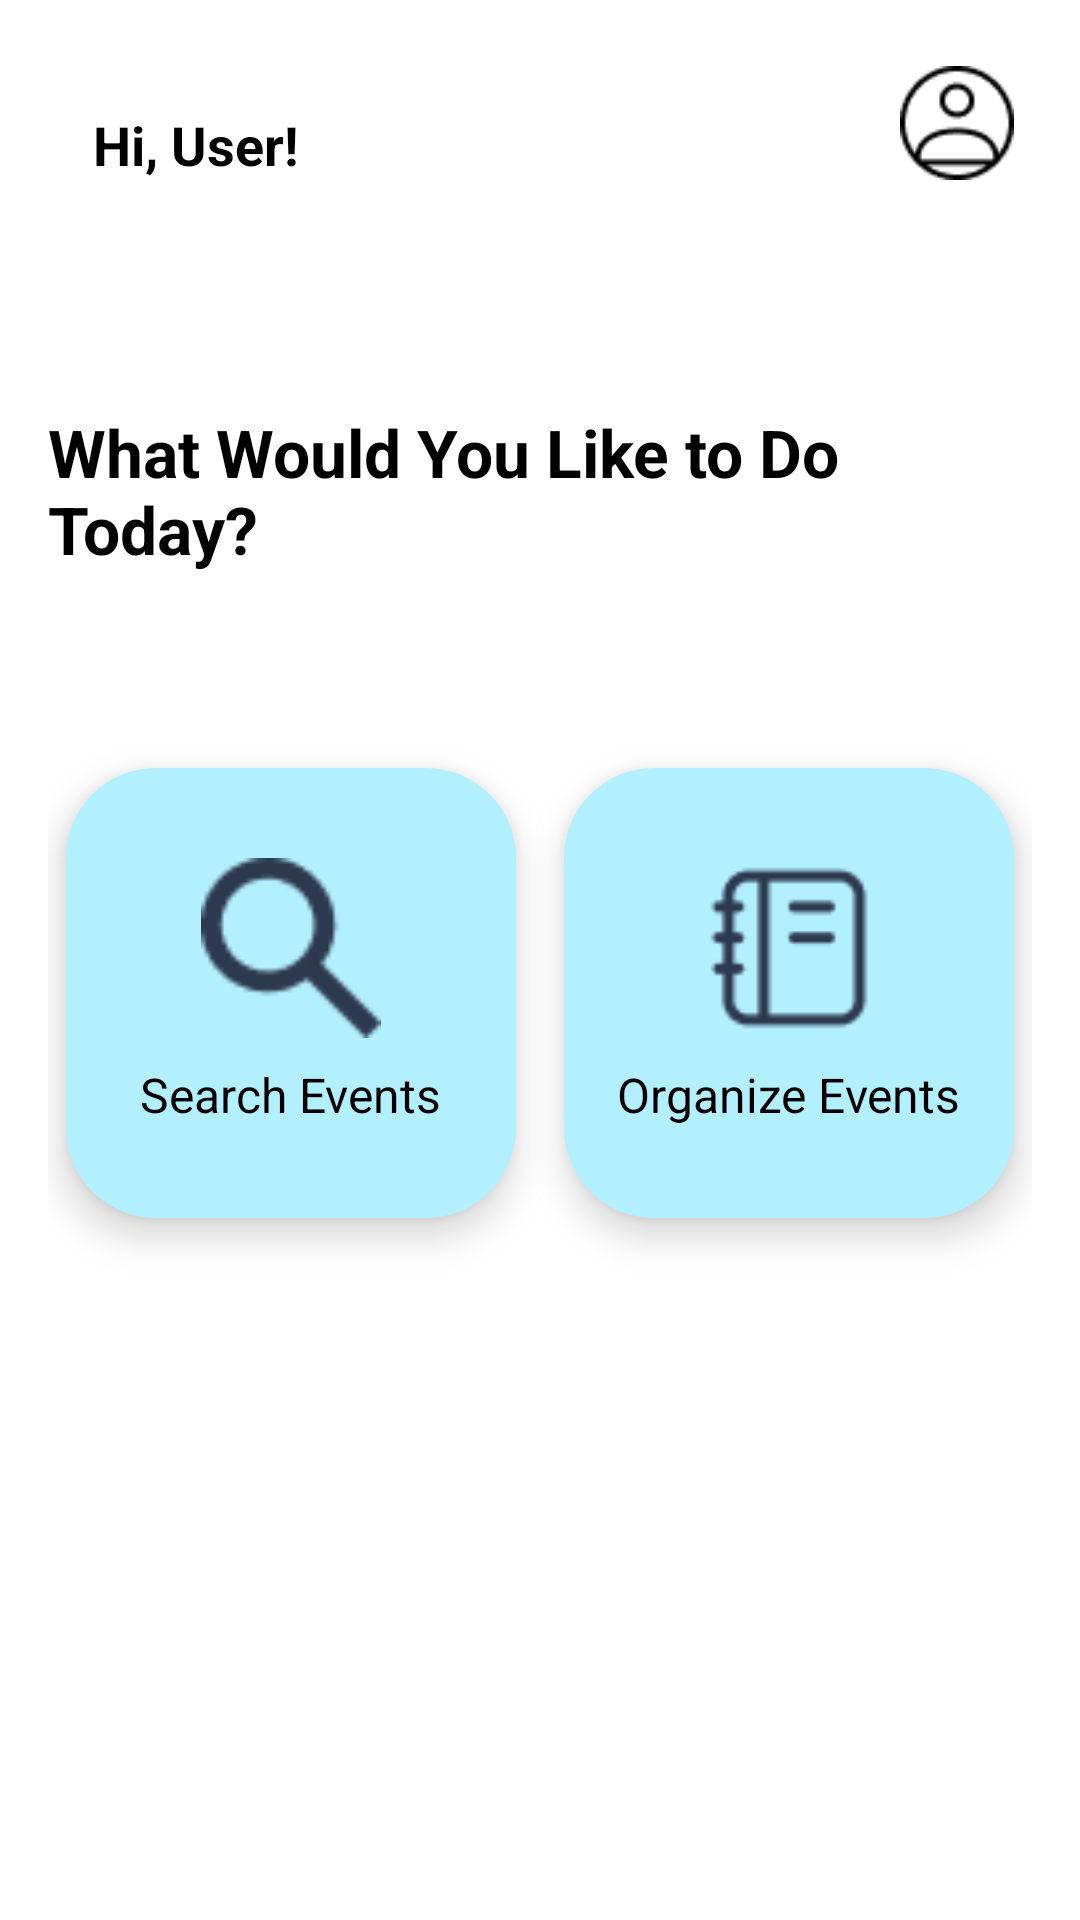

Icon bounding boxes for this 1080px x 1920px phone screenshot, format detection(x1, y1, x2, y2):
Profile Icon: detection(900, 66, 1014, 180)
